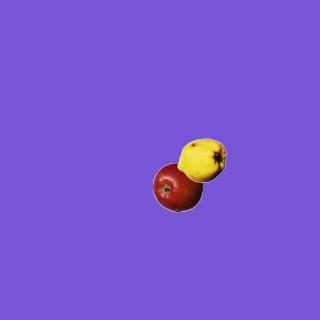Apple Braeburn: (152, 162, 202, 212)
Quince: (176, 135, 226, 185)
